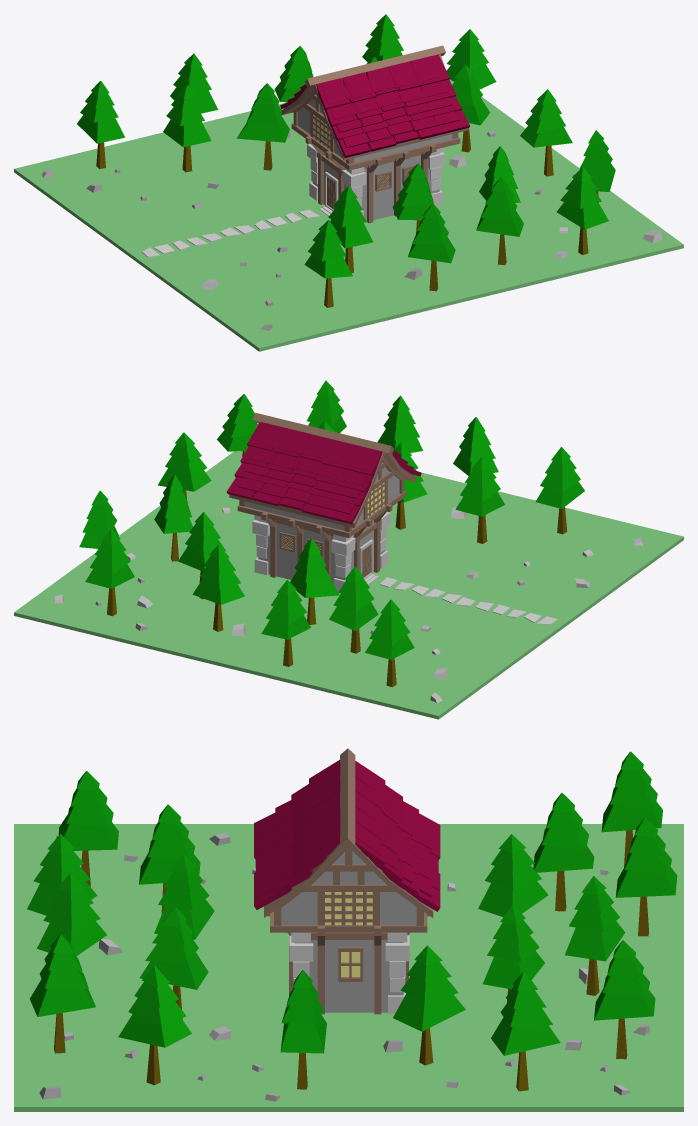
The picture shows the model from 3 angles, top to bottom: view 1: azimuth 30°, elevation 25°; view 2: azimuth 150°, elevation 25°; view 3: azimuth 270°, elevation 25°; orthographic projection. The views are drawn at different scales.
Visible parts, largest first — view 1: plateforme, TOITGAUCHE (×2), pCube979 (×11), Base, pCube122, bastoit, pCube37, pCube121; view 2: plateforme, TOITGAUCHE (×2), pCube979 (×10), pCube981 (×8), Base, pCube122, bastoit, pCube120, pCube38; view 3: plateforme, pCube979 (×18), TOITGAUCHE (×4), pCube981 (×18), pCube980 (×17), Base, bastoit, pCube122, pCube36, pCube121, pCube143, pCube120 (+3 smaller).
Part boxes in pixels (<box>): plateforme: <box>14,79,683,351</box>; TOITGAUCHE (×2): <box>316,54,469,157</box>; pCube979 (×11): <box>77,64,608,278</box>; Base: <box>312,152,439,221</box>; pCube122: <box>305,45,445,88</box>; bastoit: <box>298,99,452,162</box>; pCube37: <box>346,137,460,170</box>; pCube121: <box>313,54,468,160</box>; plateforme: <box>14,450,683,719</box>; TOITGAUCHE (×2): <box>226,422,382,524</box>; pCube979 (×10): <box>85,468,584,659</box>; pCube981 (×8): <box>90,456,580,645</box>; Base: <box>258,520,385,584</box>; pCube122: <box>253,412,393,455</box>; bastoit: <box>245,467,399,530</box>; pCube120: <box>229,422,384,527</box>; pCube38: <box>237,505,351,537</box>; plateforme: <box>14,824,683,1111</box>; pCube979 (×18): <box>27,801,677,1055</box>; TOITGAUCHE (×4): <box>254,760,440,911</box>; pCube981 (×18): <box>33,785,671,1027</box>; pCube980 (×17): <box>40,769,665,1008</box>; Base: <box>294,940,403,1012</box>; bastoit: <box>281,851,416,924</box>; pCube122: <box>340,748,355,852</box>; pCube36: <box>275,925,422,932</box>; pCube121: <box>264,843,343,917</box>; pCube143: <box>325,892,372,924</box>; pCube120: <box>352,845,433,917</box>.
Bounding box in the file's own units: 24.04 × 7.69 × 24.04.
